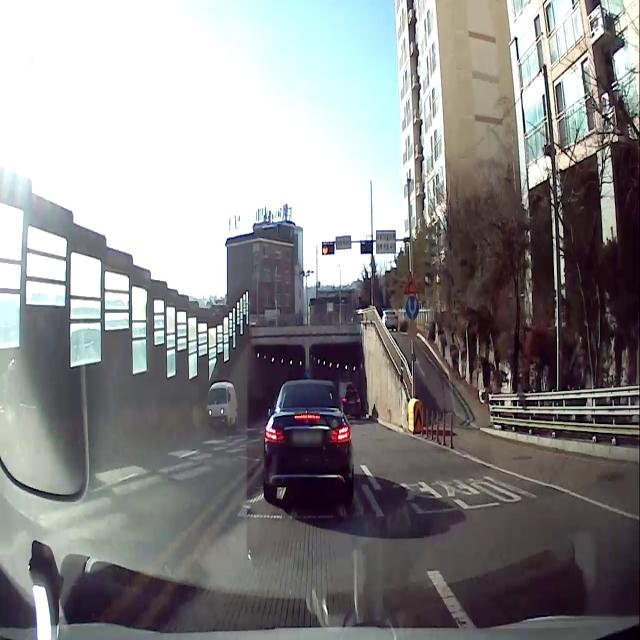Yellow Light: (322, 244, 328, 256)
